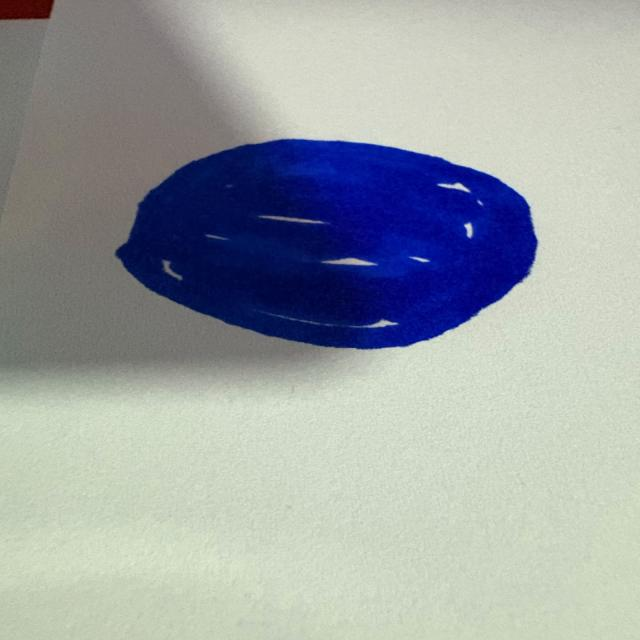Circle: (108, 134, 551, 352)
